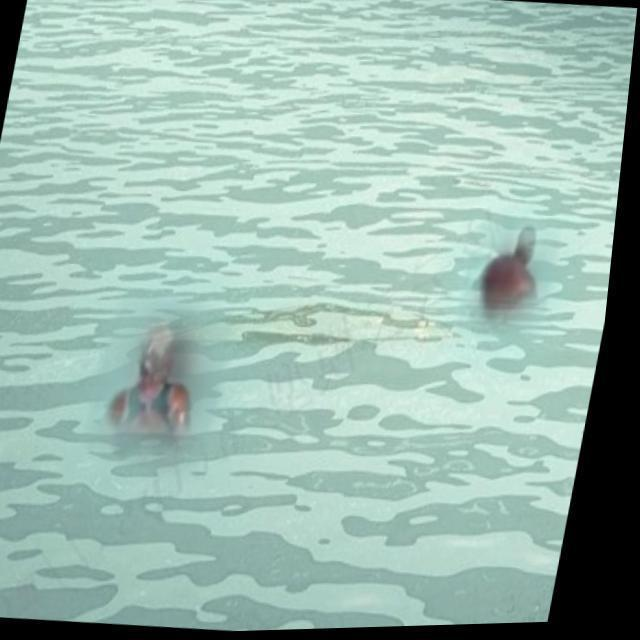swimming: (78, 315, 227, 450), (456, 217, 571, 326)
